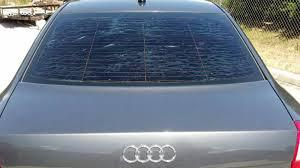Rear-windscreen-Damage: (39, 16, 250, 84)
